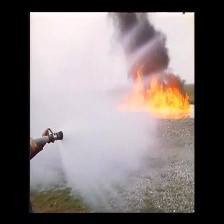fire: (117, 69, 191, 117)
